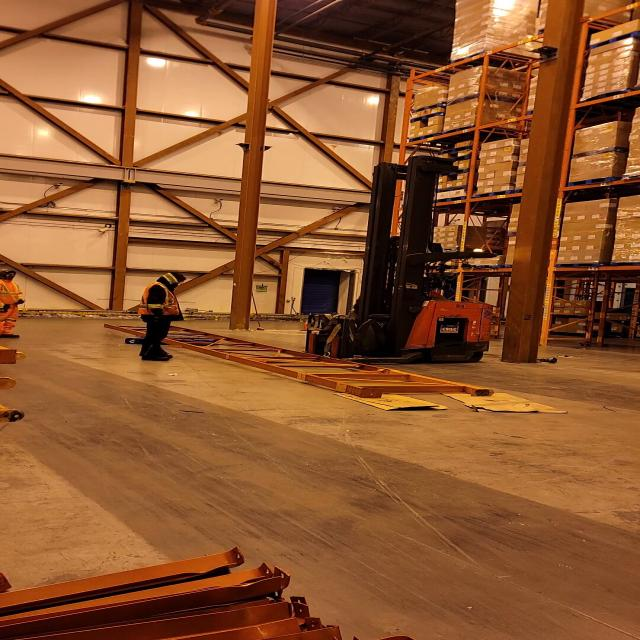forklift: (284, 161, 492, 364)
human: (130, 267, 195, 363), (357, 274, 451, 326), (0, 262, 28, 343)
objectofinterest: (96, 321, 500, 398), (438, 388, 568, 416), (335, 386, 451, 414), (118, 332, 222, 350)
